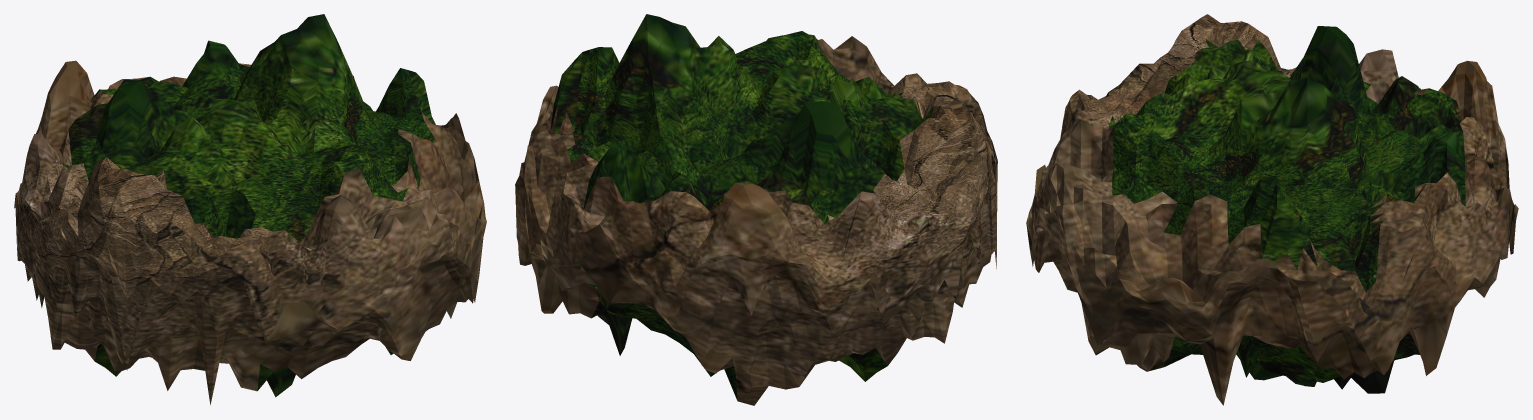
Rendered from large-island.obj.
The picture shows the model from 3 angles, left to right: view 1: azimuth 30°, elevation 25°; view 2: azimuth 150°, elevation 25°; view 3: azimuth 270°, elevation 25°; orthographic projection. The views are drawn at different scales.
Bounding box in the file's own units: 49.99 × 36 × 49.99.
